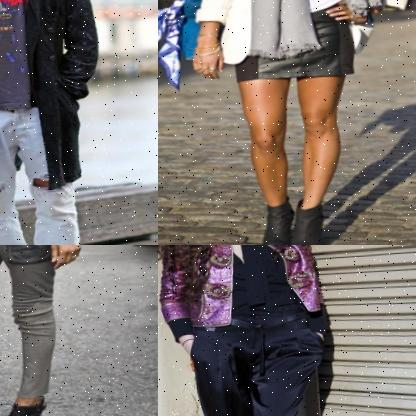jacket: (0, 0, 106, 196), (158, 245, 328, 341), (188, 0, 416, 66)
jean: (0, 102, 84, 245)
pants: (188, 306, 331, 416), (0, 245, 75, 402)
skirt: (228, 0, 357, 81)
